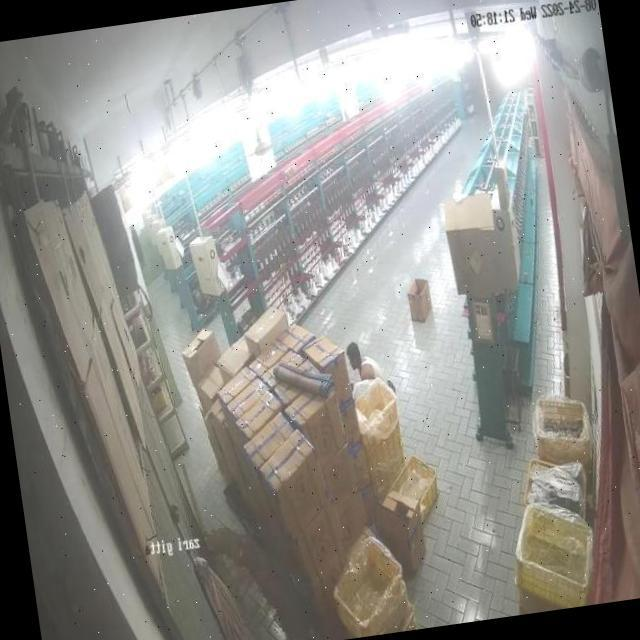person: (345, 334, 396, 408)
